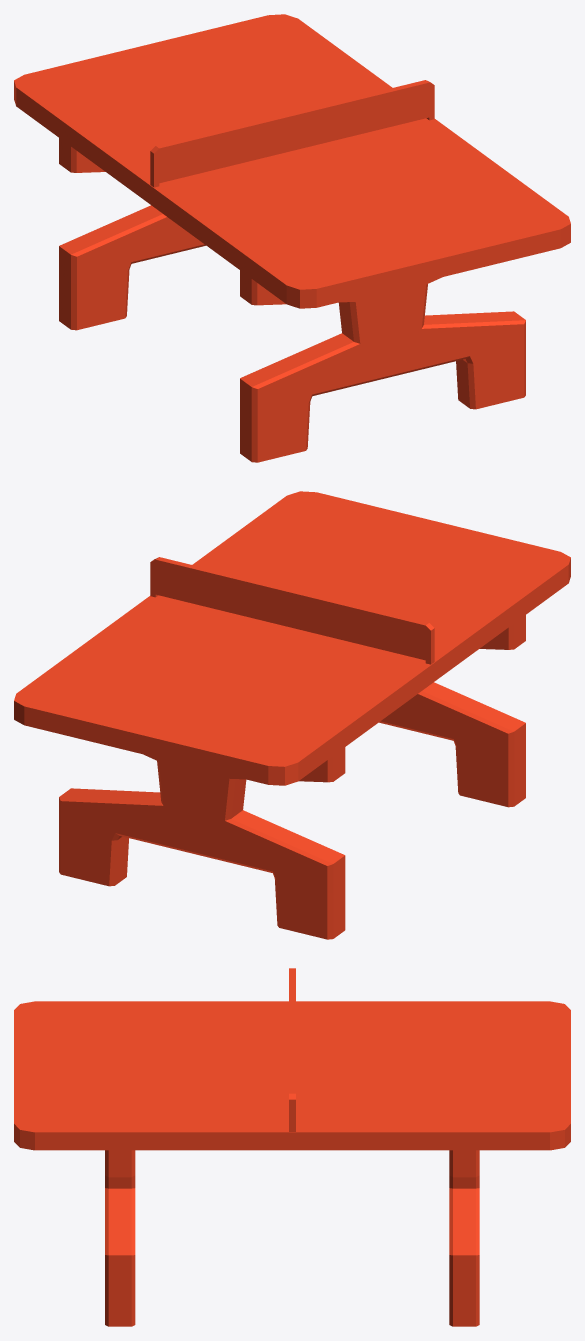
File: SM_Table_Tennis_City.fbx
3 renders of one model, top to bottom at view 1: azimuth 30°, elevation 25°; view 2: azimuth 150°, elevation 25°; view 3: azimuth 270°, elevation 25°, orthographic. The views are drawn at different scales.
Parts seen in each view (by area): view 1: SM_Table_Tennis_City; view 2: SM_Table_Tennis_City; view 3: SM_Table_Tennis_City.
Part boxes in pixels (x1=…): SM_Table_Tennis_City: x1=14, y1=14, x2=570, y2=462; SM_Table_Tennis_City: x1=14, y1=491, x2=570, y2=939; SM_Table_Tennis_City: x1=14, y1=968, x2=570, y2=1326.
Bounding box in the file's own units: 1.53 × 1.26 × 2.74.
